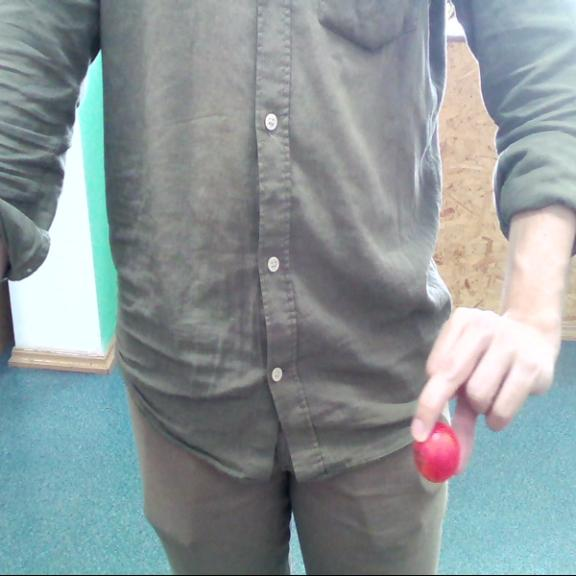ball: (413, 426, 462, 483)
